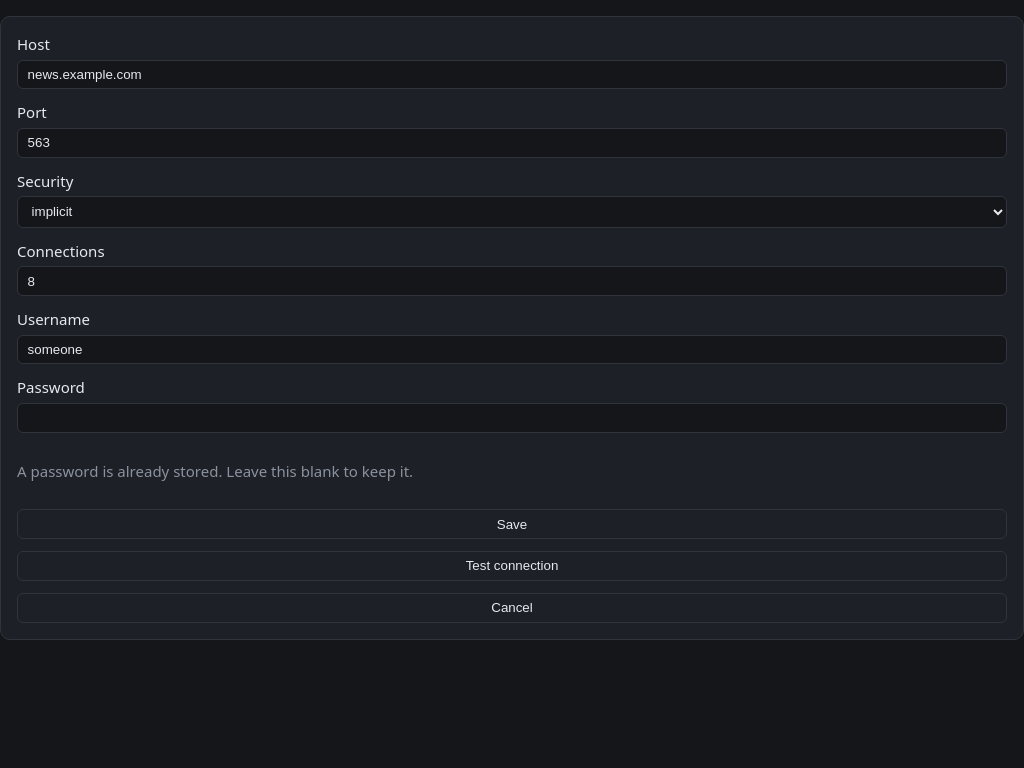
SettingsDialog connection test › shows the result of a connection test
This screenshot has width=1024, height=768.
Click the button "Test connection" at (512, 566), box [17,551,1007,581]
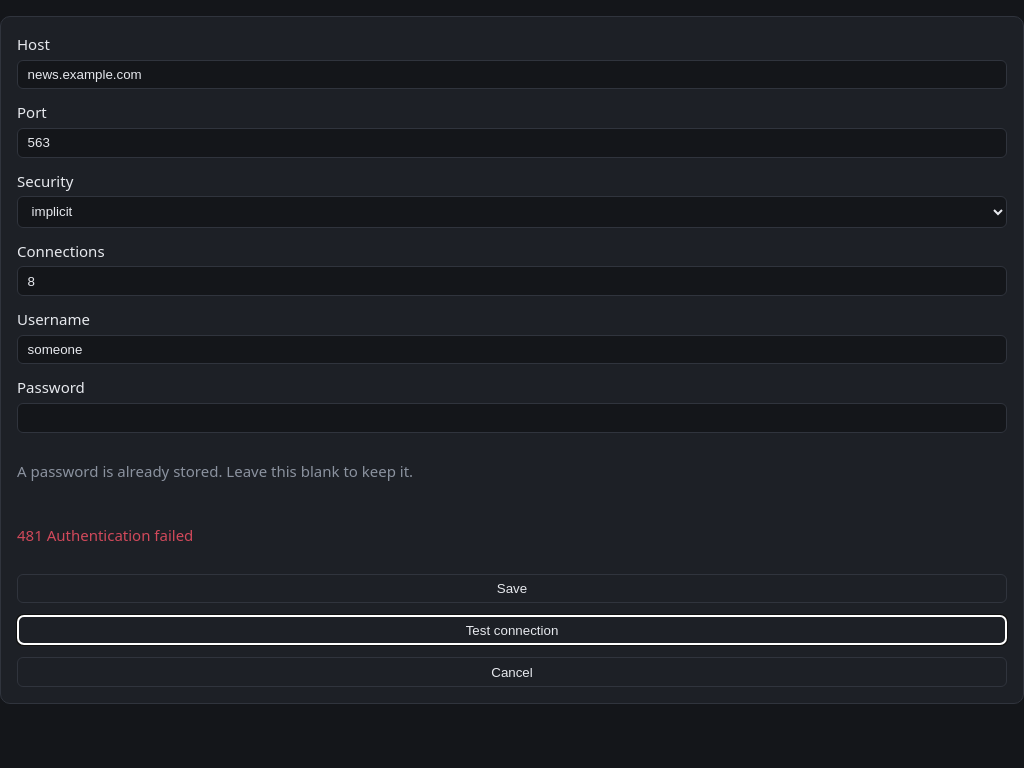
Now the text "481 Authentication failed" is shown, box [17,525,193,545]
